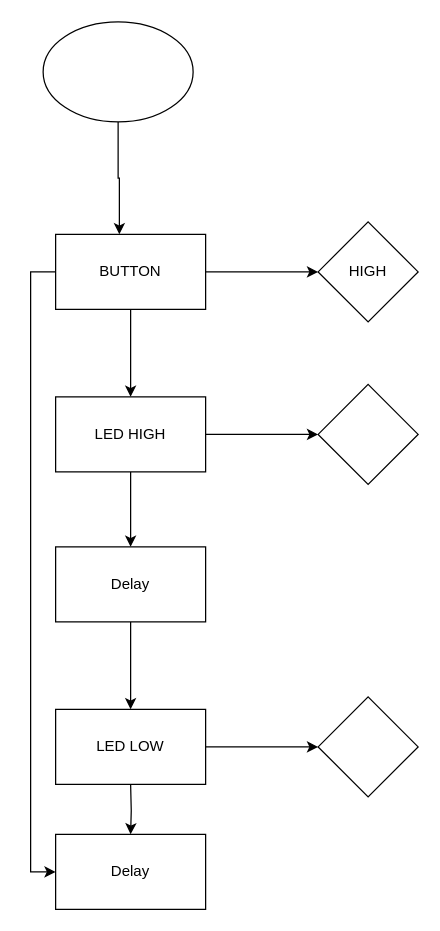
Some shapes in this 440 by 931 pixel diagram are drawn without their labels. Each missing label, with the box of its shape:
OFF: (317, 696, 418, 797)
ON: (317, 383, 418, 484)
Start: (42, 21, 193, 122)
